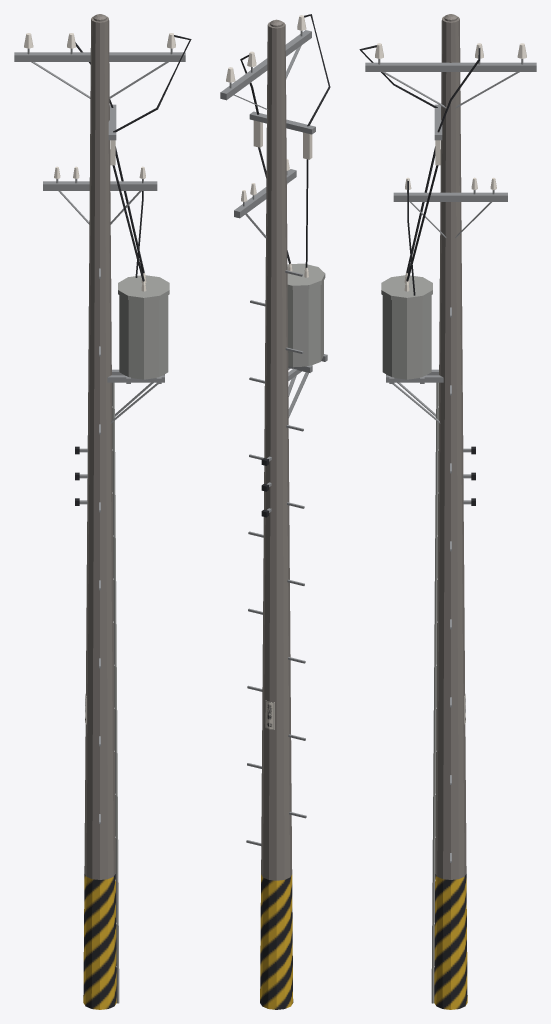
File: SM_Street_Pole_Transformer_01.fbx
3 views of the same model, side by side, from view 1: azimuth 90°, elevation 25°; view 2: azimuth 150°, elevation 25°; view 3: azimuth 270°, elevation 25° (orthographic).
Parts seen in each view (by area): view 1: SM_Street_Pole_Transformer_01; view 2: SM_Street_Pole_Transformer_01; view 3: SM_Street_Pole_Transformer_01.
Part boxes in pixels (x1=…): SM_Street_Pole_Transformer_01: x1=14, y1=14, x2=191, y2=1009; SM_Street_Pole_Transformer_01: x1=220, y1=14, x2=330, y2=1009; SM_Street_Pole_Transformer_01: x1=359, y1=14, x2=536, y2=1009.
Bounding box in the file's own units: 0.76 × 11.44 × 1.86.
1 material, 1 textured.
